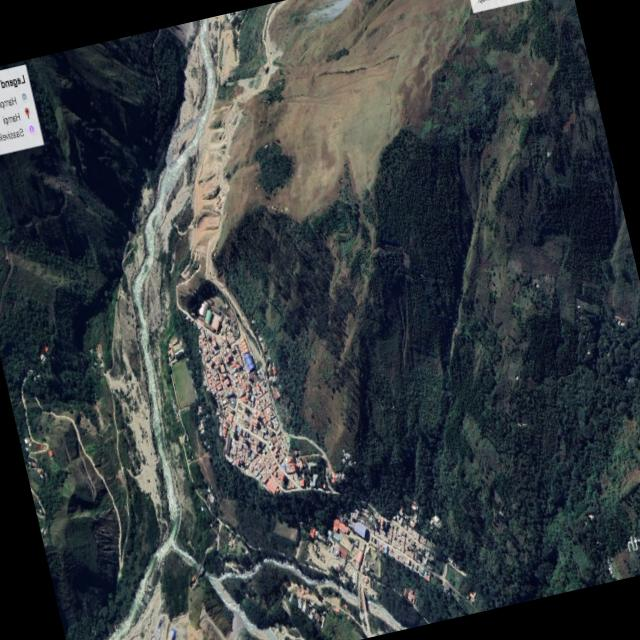artifacts: (171, 299, 311, 502), (304, 494, 440, 604), (282, 451, 310, 489)
ruins: (77, 272, 192, 552), (10, 351, 132, 584), (160, 79, 278, 254), (59, 557, 228, 640), (213, 2, 295, 102), (174, 23, 234, 143), (193, 589, 266, 640)
vegetation: (480, 286, 640, 587), (0, 54, 143, 309), (345, 151, 505, 378), (422, 400, 584, 612), (50, 33, 192, 197), (0, 290, 117, 454)
